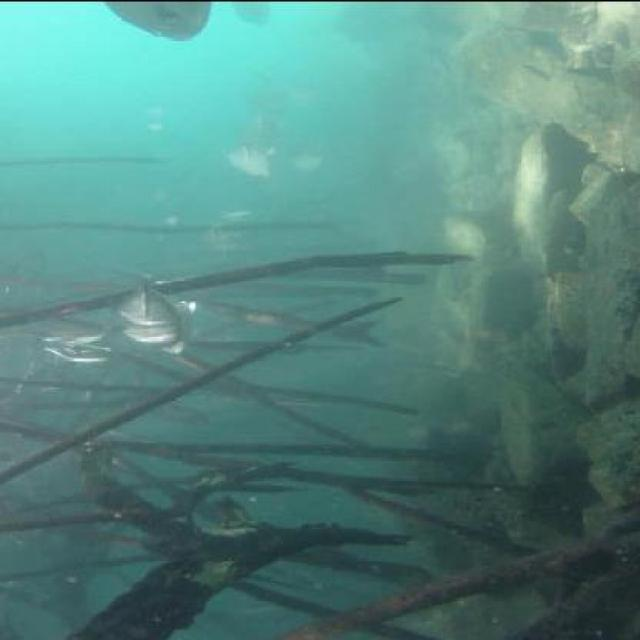Caranx_sexfasciatus_juvenile: (106, 262, 186, 347), (104, 0, 216, 45), (153, 287, 210, 362), (37, 322, 126, 368), (187, 207, 253, 265), (236, 65, 310, 108), (216, 140, 282, 185), (281, 142, 342, 176), (244, 105, 288, 146), (216, 0, 279, 28)
